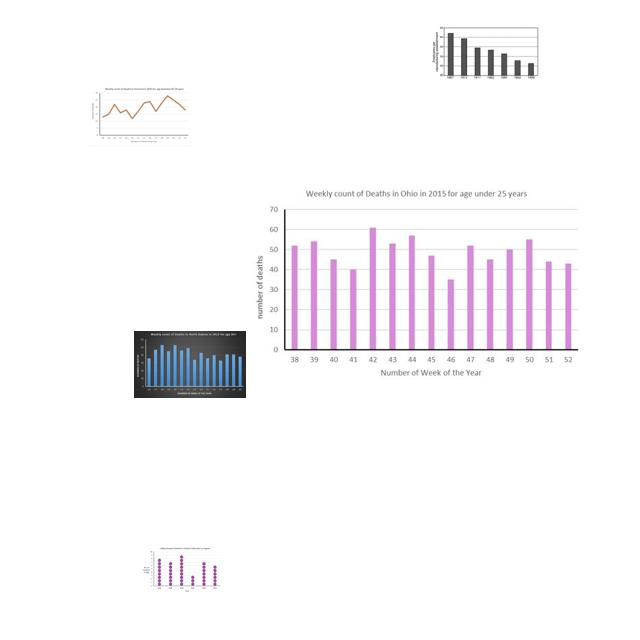Graph: (247, 183, 585, 388), (423, 18, 549, 84), (134, 331, 246, 398), (89, 85, 191, 146), (141, 546, 222, 594)
